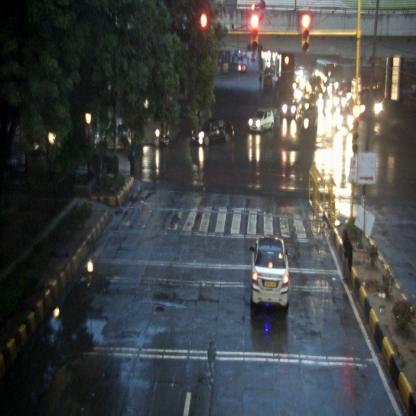car: (250, 235, 290, 311), (192, 117, 234, 145), (249, 108, 274, 131)
motorcycle: (153, 122, 171, 146)
